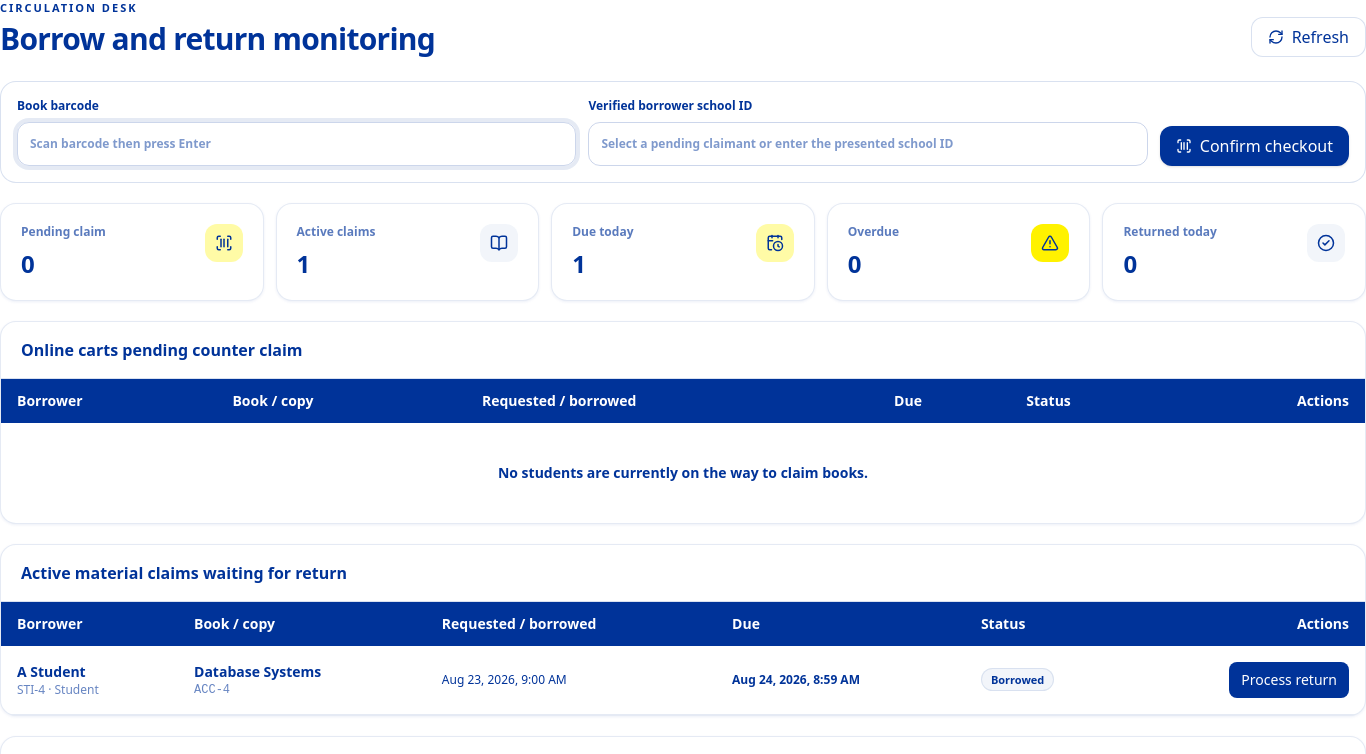
Test: AdminCirculationMonitor › runs ready preflight then walk-in checkout without the warning dialog
expect the text "Database Systems" is shown: met, box [194,662,321,680]
Type "BOOK-5" into the field with placeholder "Scan barcode then press Enter".
click(297, 144); type("BOOK-5")  # box [17,122,576,166]
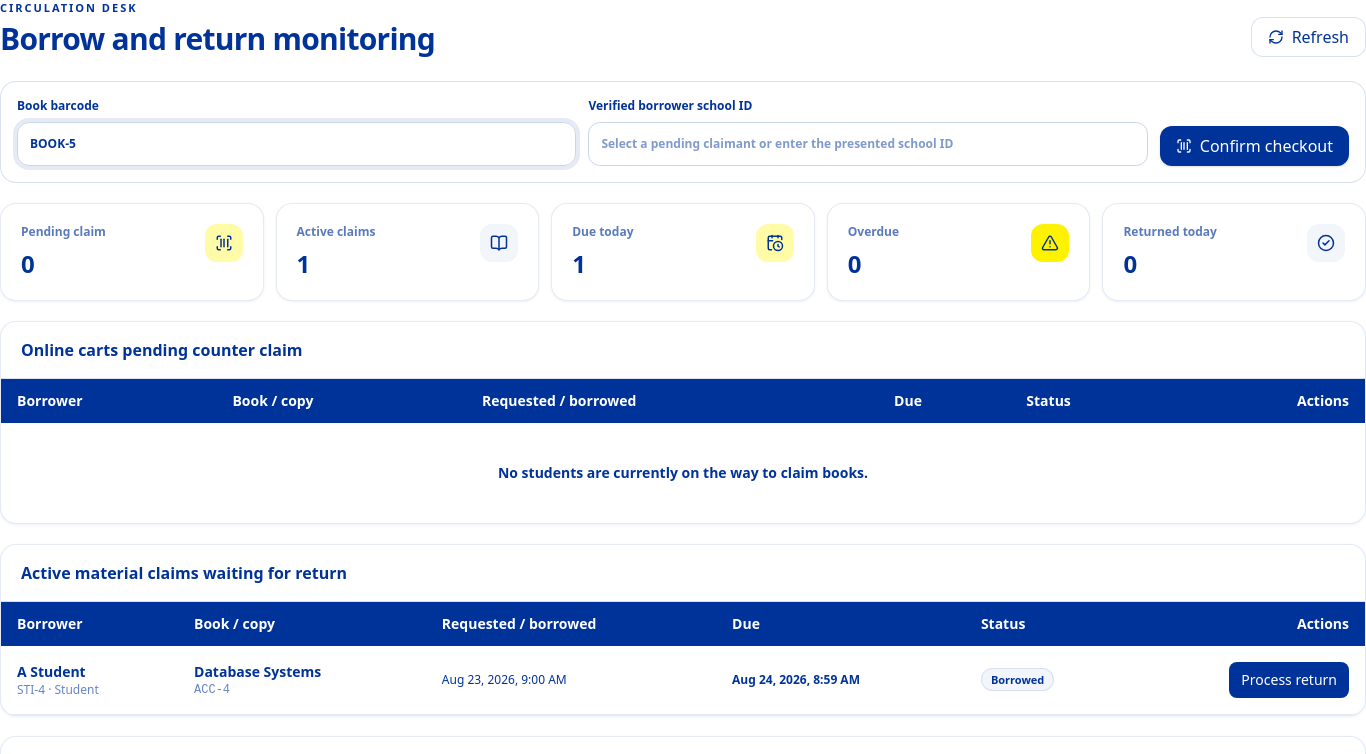
Type "STI-5" into the field with placeholder "Select a pending claimant or enter the presented school ID".
click(868, 144); type("STI-5")  # box [588,122,1148,166]
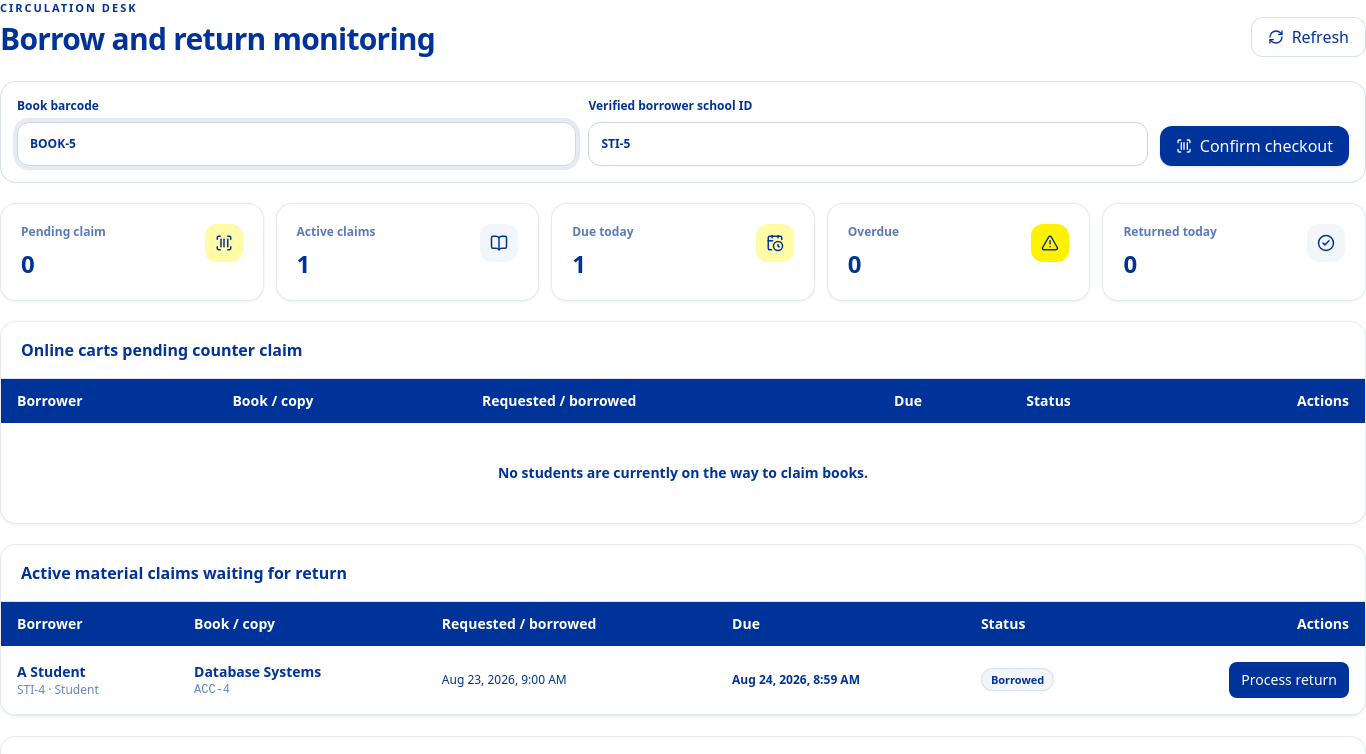
Click the button "Confirm checkout".
click(1254, 146)  # box [1160,126,1349,166]
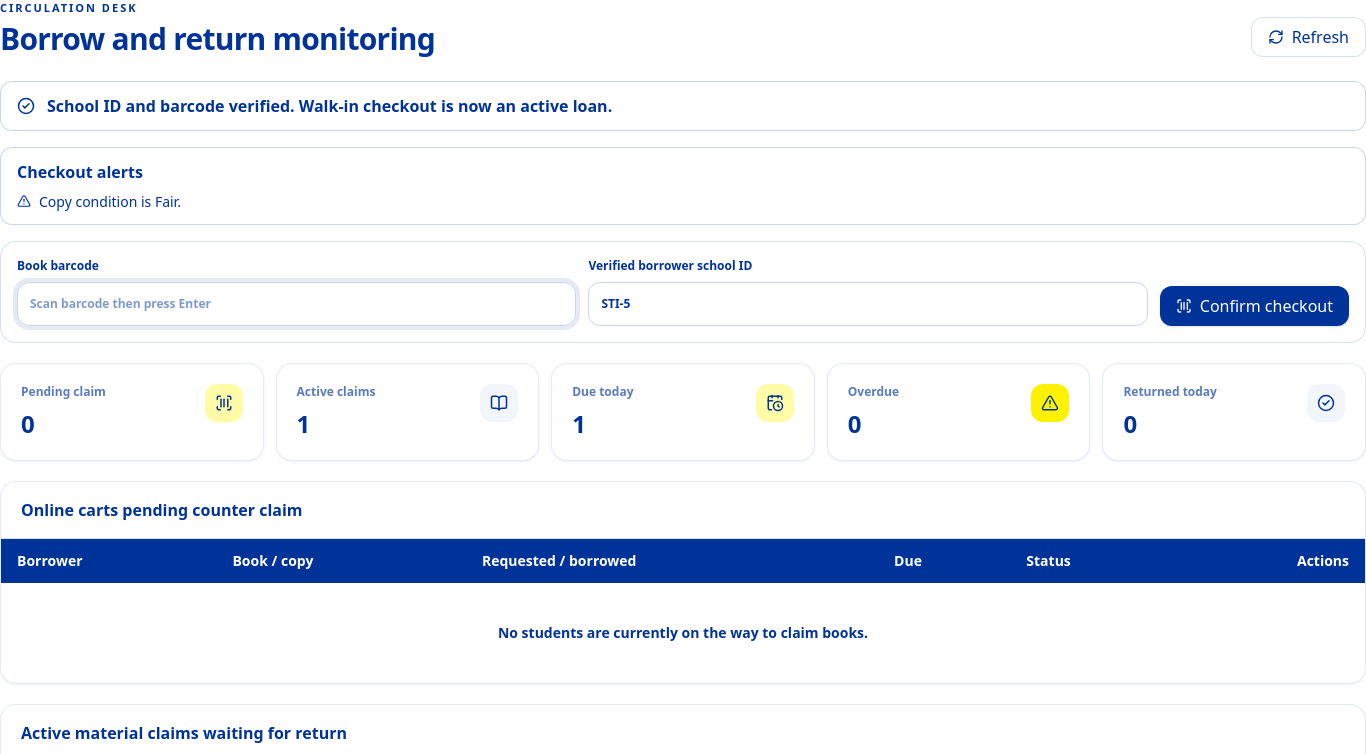
expect the text "School ID and barcode verified. Walk-in checkout is now an active loan." is shown: met, box [0,80,1365,130]
expect the text "Copy condition is Fair." is shown: met, box [39,192,181,212]
